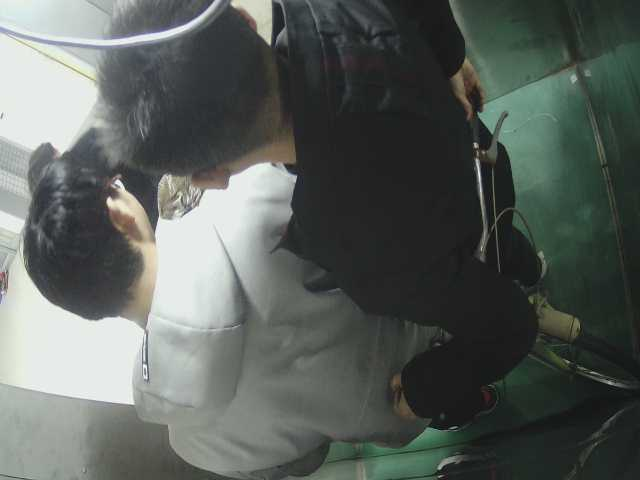bicycle: (413, 96, 634, 399)
person: (96, 1, 538, 360), (16, 157, 485, 466)
